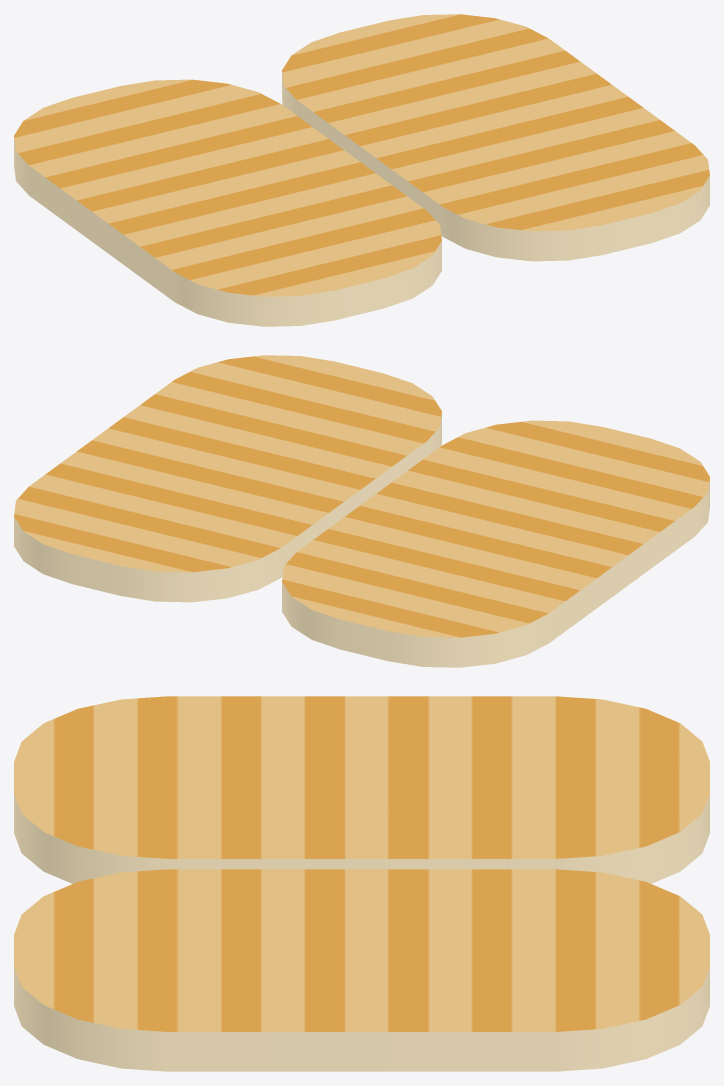
Rendered from Halloumi_Slice_Halloumi_0.glb.
3 views of the same model, one above another, from view 1: azimuth 30°, elevation 25°; view 2: azimuth 150°, elevation 25°; view 3: azimuth 270°, elevation 25° (orthographic). The views are drawn at different scales.
Parts seen in each view (by area): view 1: Halloumi_Slice_Halloumi_0; view 2: Halloumi_Slice_Halloumi_0; view 3: Halloumi_Slice_Halloumi_0.
Boxes of the visible parts, x1,y1,x2,y2 form: Halloumi_Slice_Halloumi_0: [14, 14, 709, 326]; Halloumi_Slice_Halloumi_0: [14, 355, 709, 667]; Halloumi_Slice_Halloumi_0: [14, 696, 709, 1071].
Size of the model in its own units: 0.1815 by 0.01 by 0.1589.
1 material, 1 textured.
